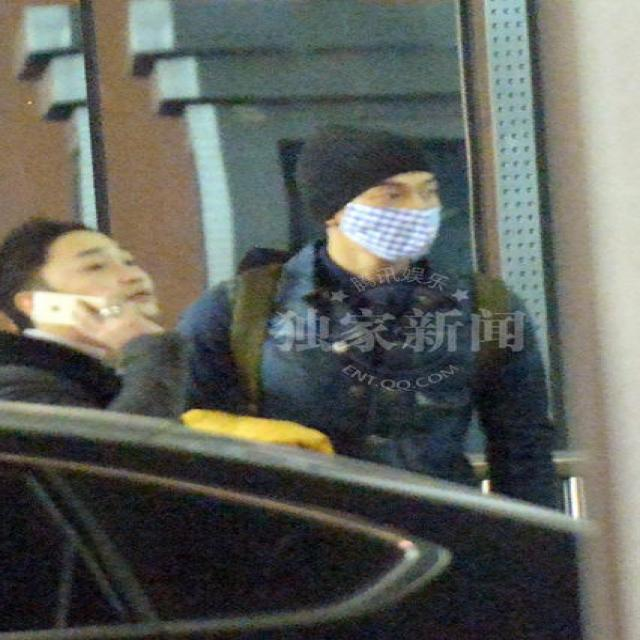mask: (354, 175, 444, 265)
nomask: (52, 223, 160, 318)
